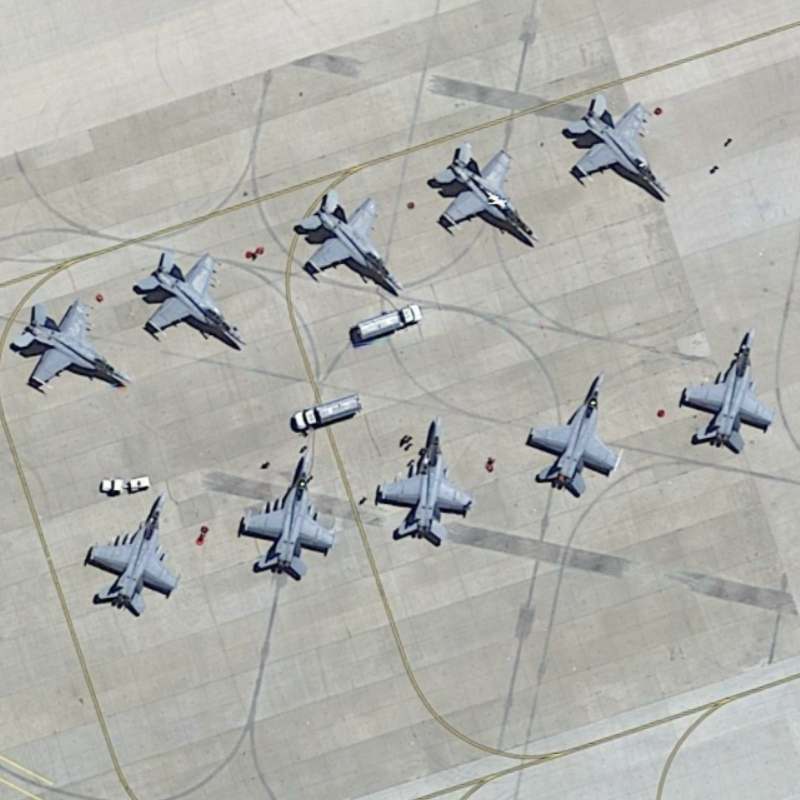A16: (79, 486, 185, 625), (370, 411, 479, 546), (518, 365, 624, 499), (233, 450, 336, 585), (674, 322, 778, 455), (285, 183, 406, 297), (557, 87, 674, 202), (127, 245, 251, 351), (425, 136, 543, 245), (8, 293, 135, 393)
